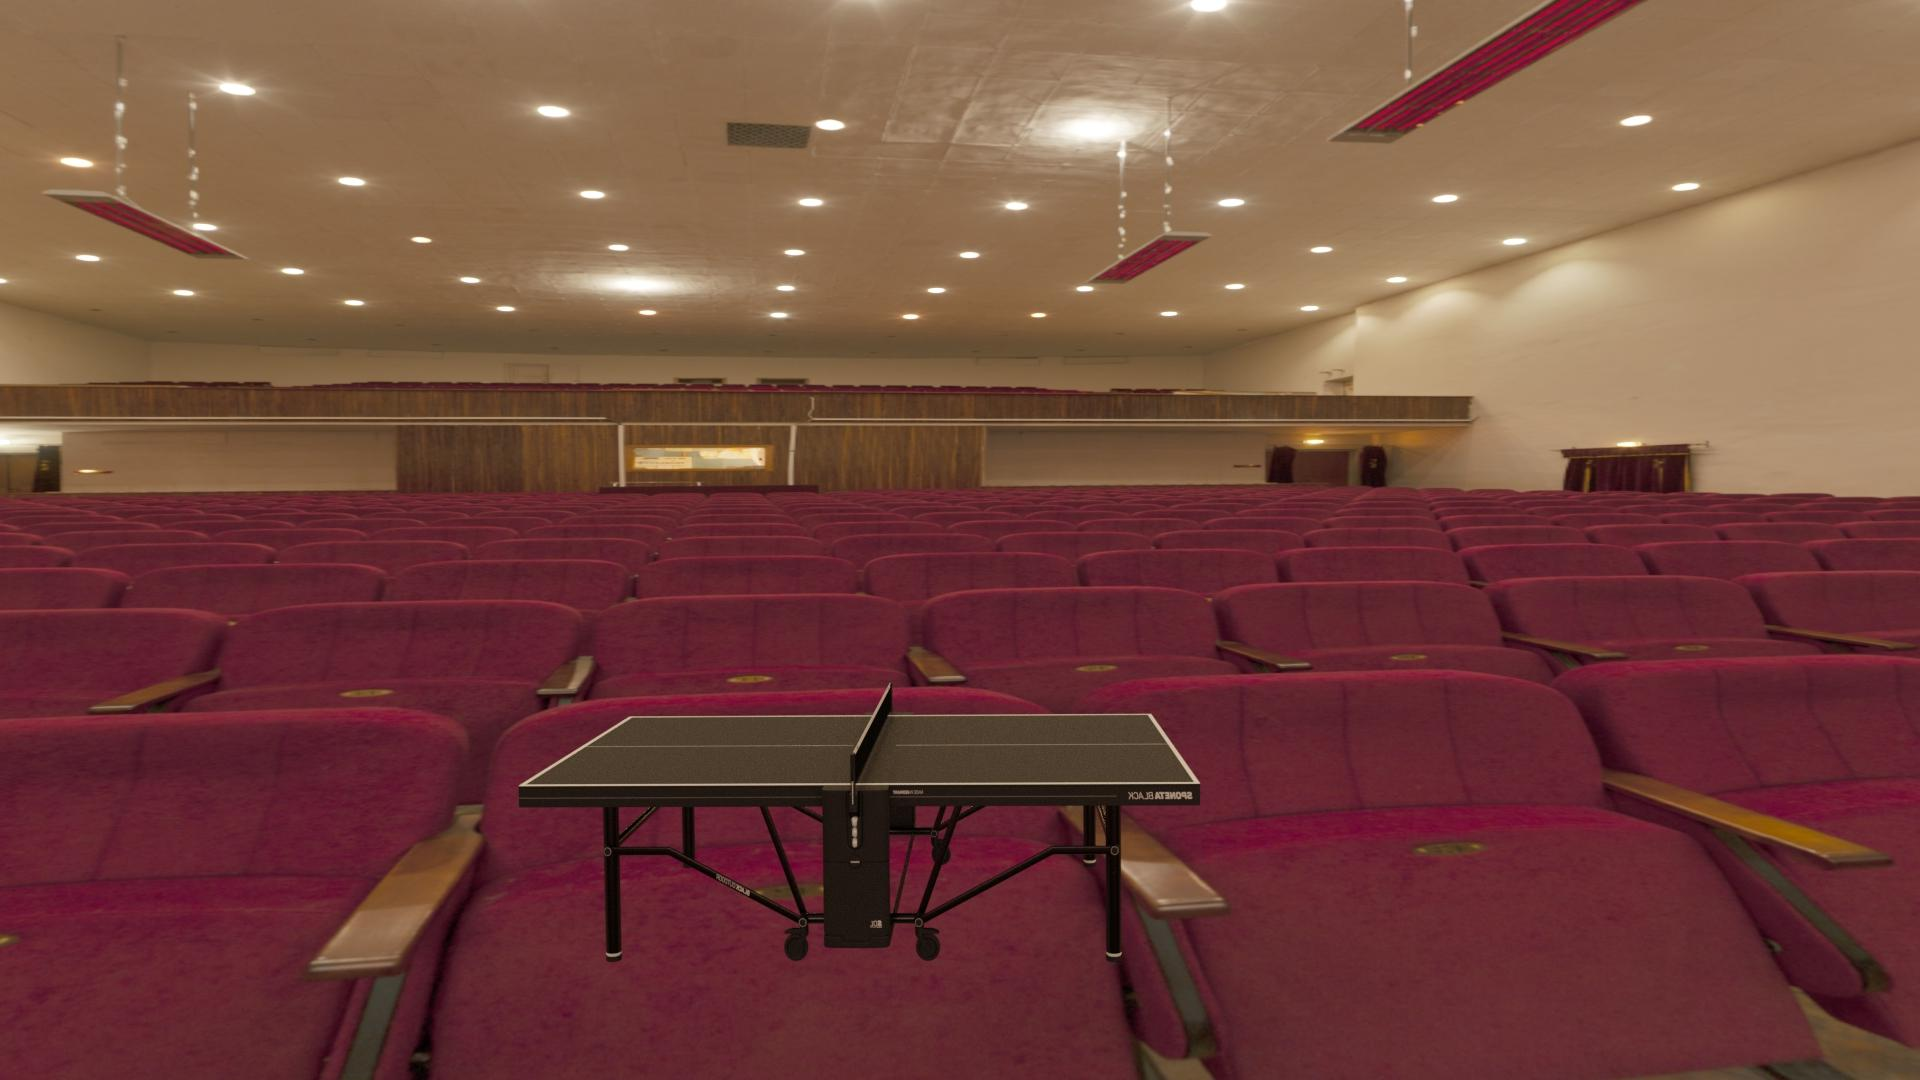table: (525, 715, 1195, 785)
